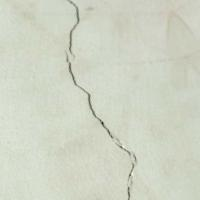crack: (60, 0, 142, 199)
